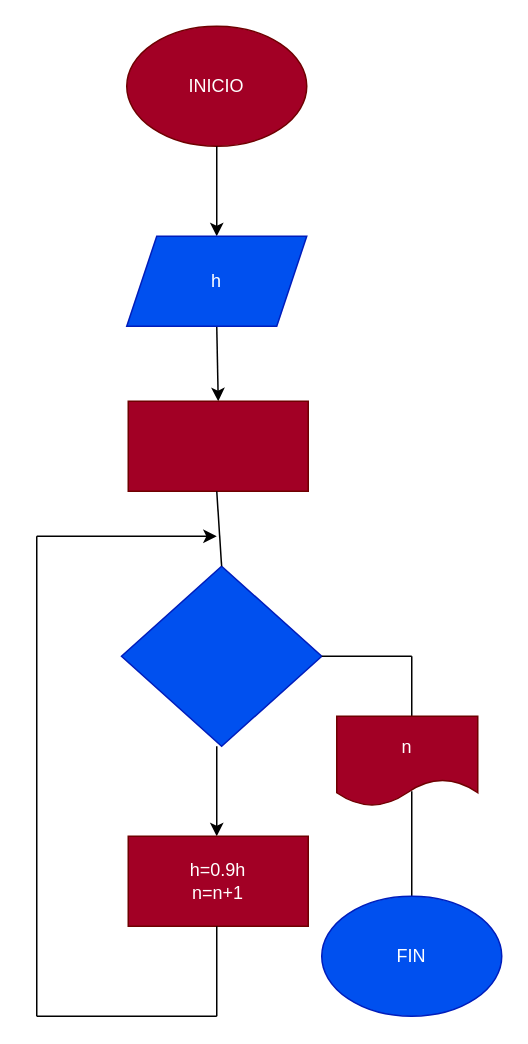
The diagram is 528 pixels wide and 1044 high, and some of its shapes have lost their labels. Here are the shapes that lost their labels. From the top down, the centre of each, then its label:
the point at 217,445: q=h/5 n=0
the point at 221,655: h>=q
